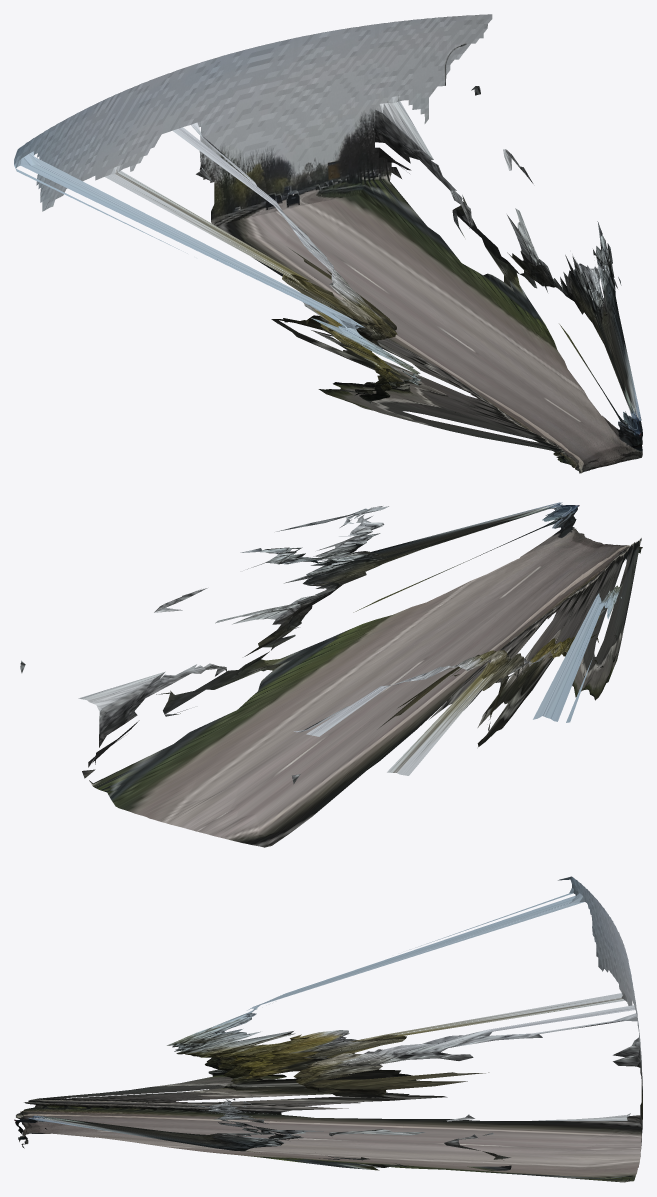
3 views of the same model, one above another, from view 1: azimuth 30°, elevation 25°; view 2: azimuth 150°, elevation 25°; view 3: azimuth 270°, elevation 25° (orthographic). The views are drawn at different scales.
Parts seen in each view (by area): view 1: defaultobject; view 2: defaultobject; view 3: defaultobject.
Boxes of the visible parts, x1,y1,x2,y2 form: defaultobject: [14, 14, 642, 473]; defaultobject: [20, 502, 642, 847]; defaultobject: [14, 876, 642, 1182].
Size of the model in its own units: 35.62 by 12.35 by 44.75.
1 material, 1 textured.
